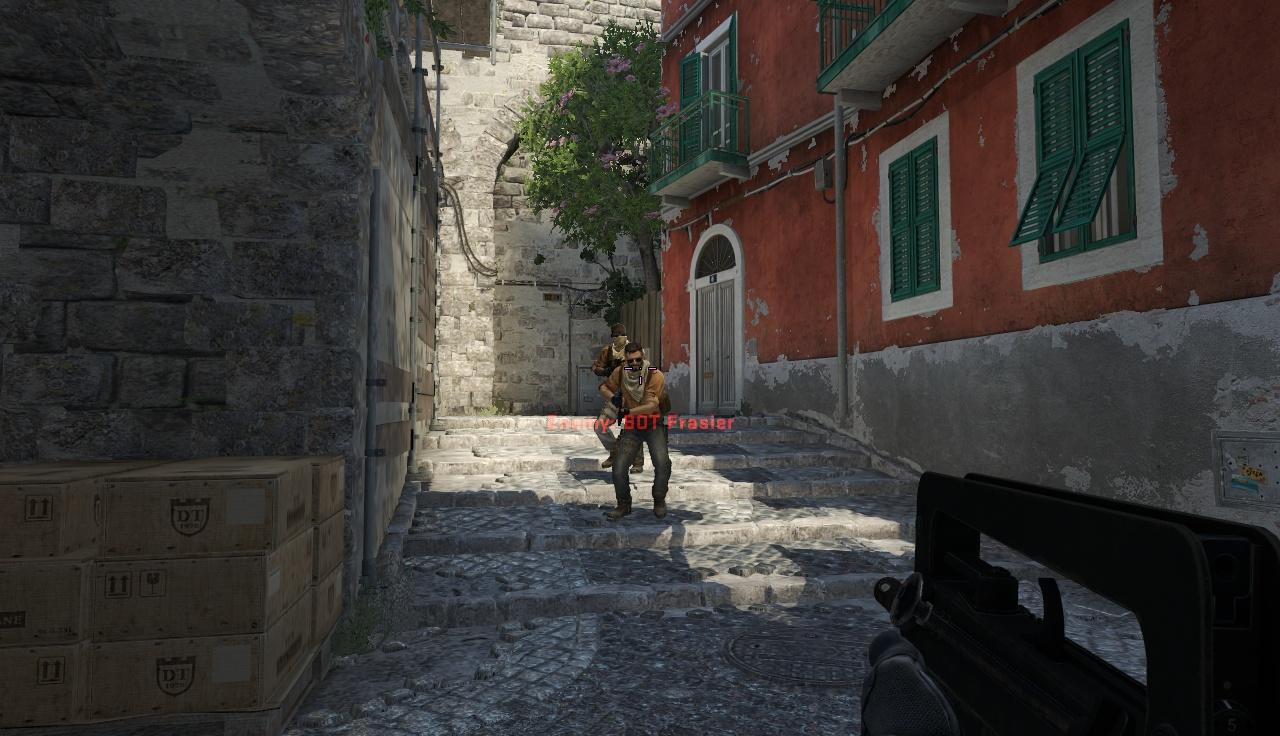rifle: (876, 481, 1280, 736)
tt: (604, 340, 675, 518)
tthead: (624, 343, 645, 373), (610, 324, 627, 345)
